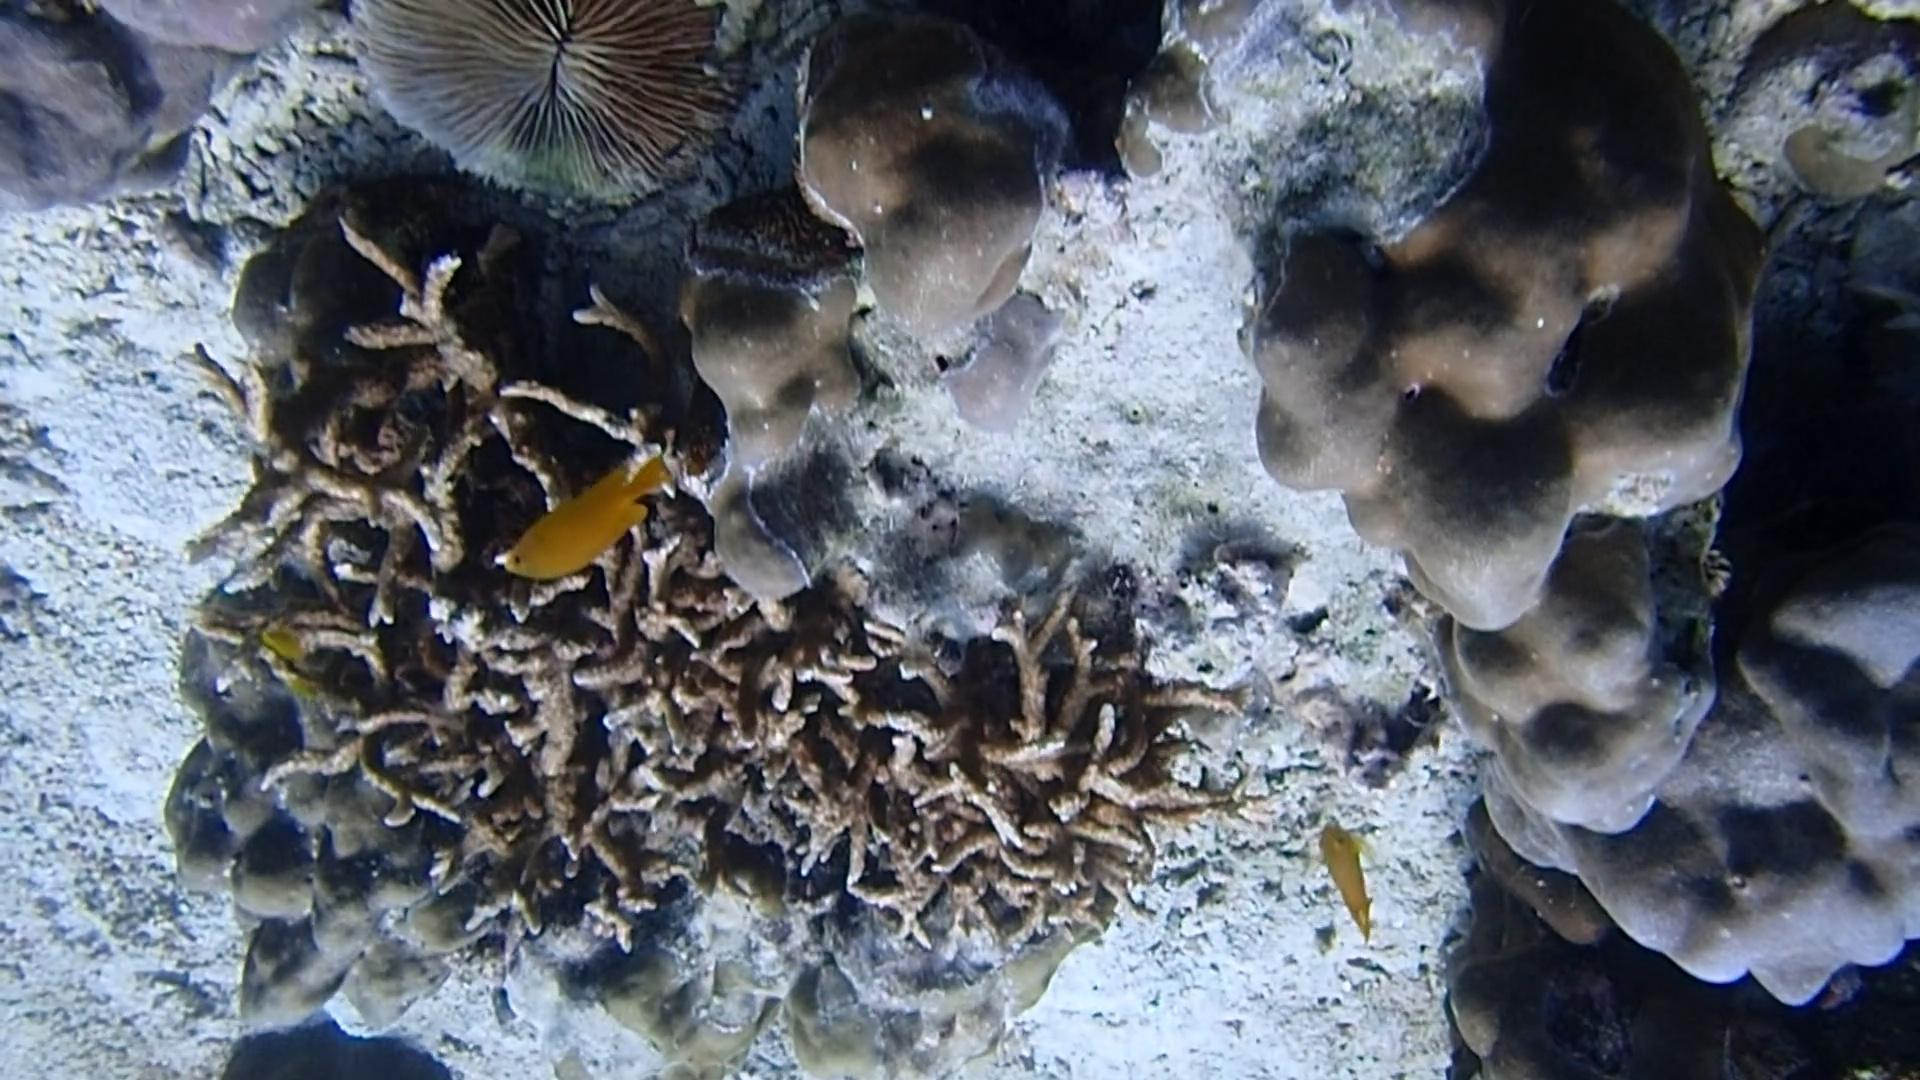Yellow Fish: (504, 436, 675, 587), (1308, 816, 1393, 953), (249, 616, 315, 666)
